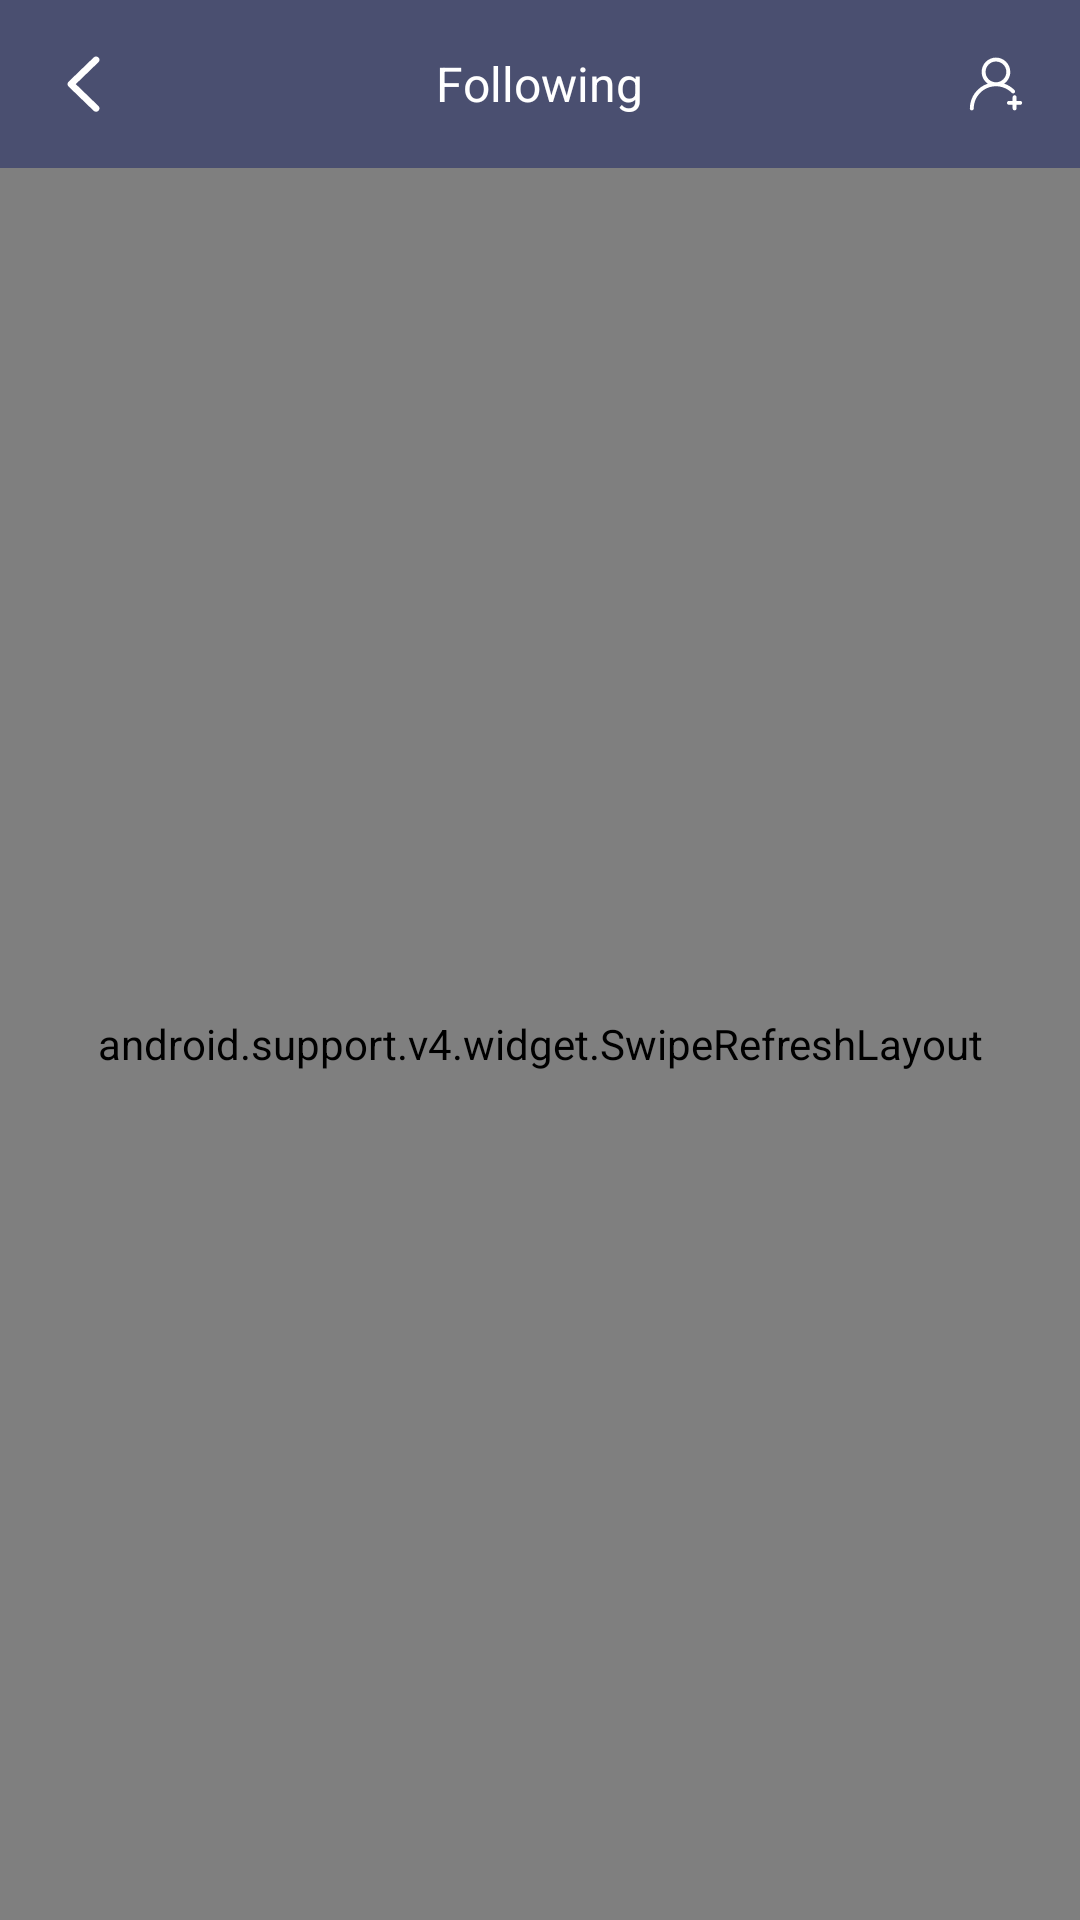

Named icons in this screenshot (1080px x 1920px) and their centers, (x,y):
ali add friend: (996,84)
ali back: (83,84)
